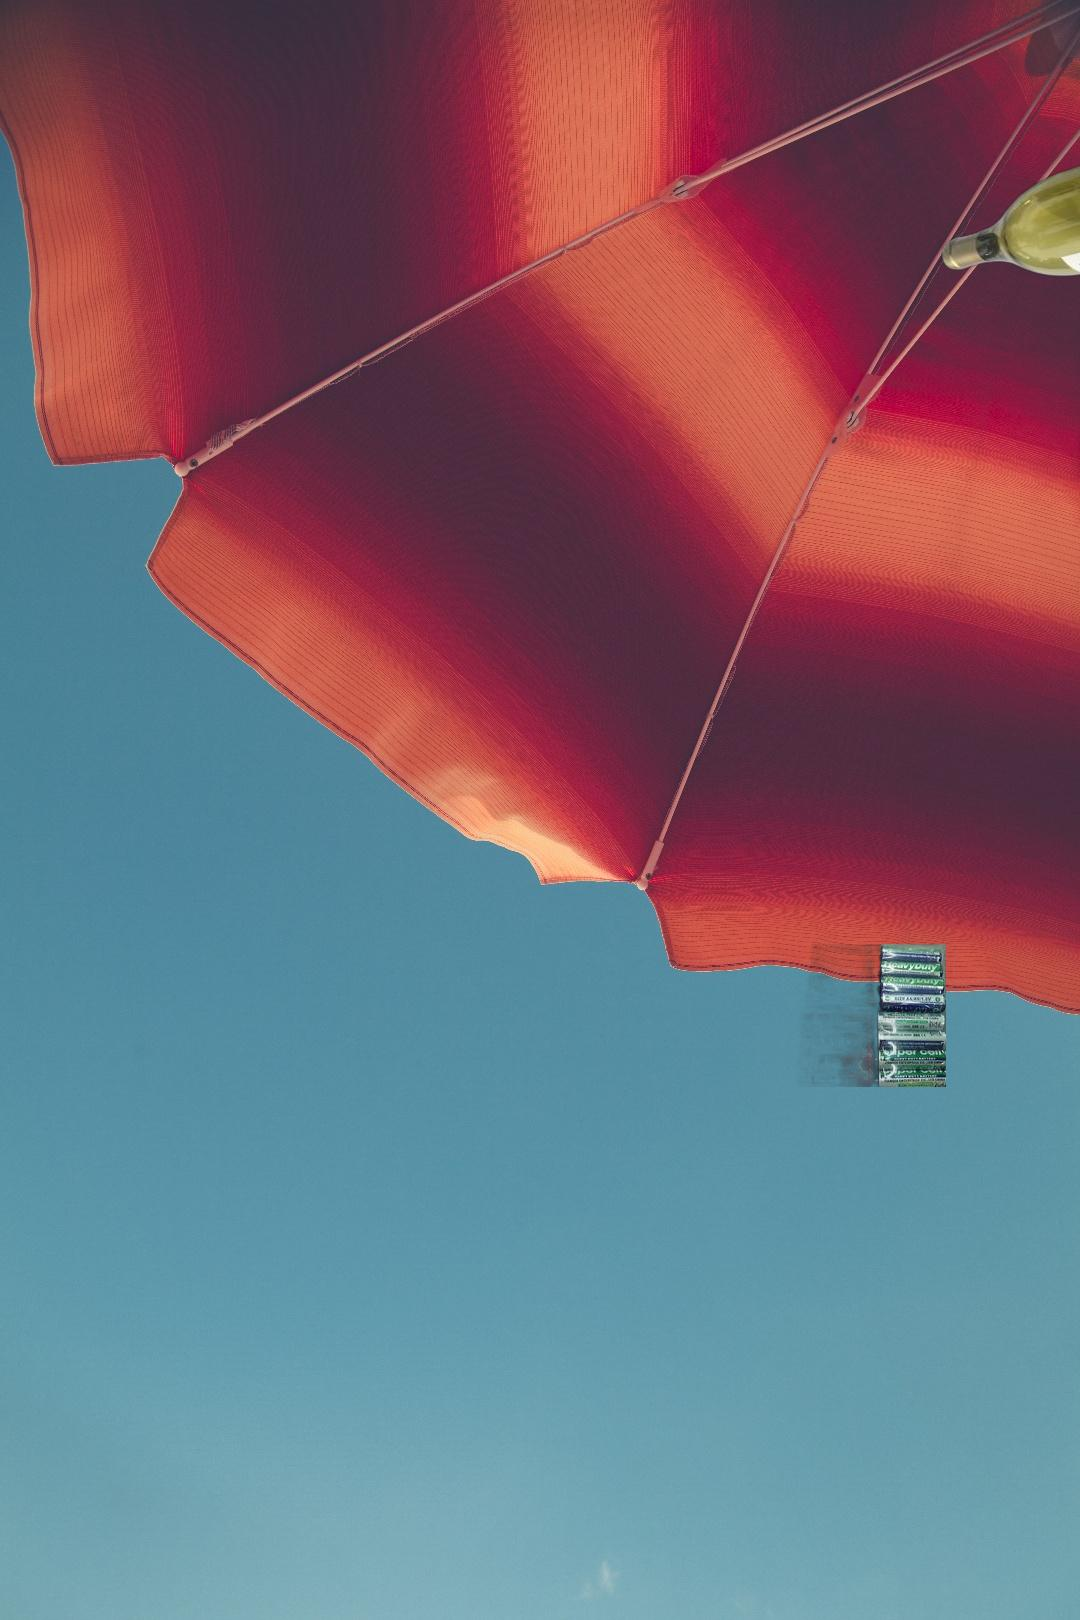battery: (796, 944, 946, 1087)
glass: (938, 128, 1080, 278)
trashbox-cardboard: (1016, 1352, 1080, 1620)
